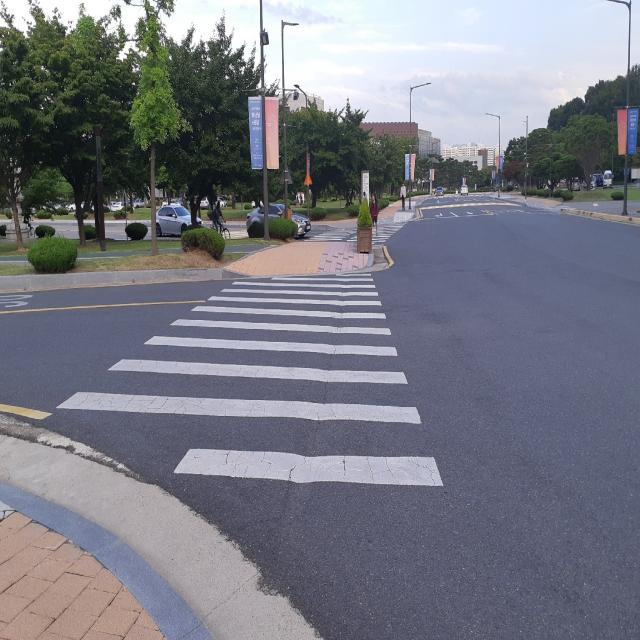횡단보도: (53, 268, 446, 492)
